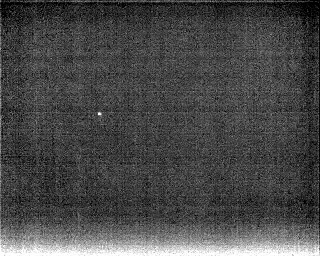BIRD: (95, 109, 104, 119)
